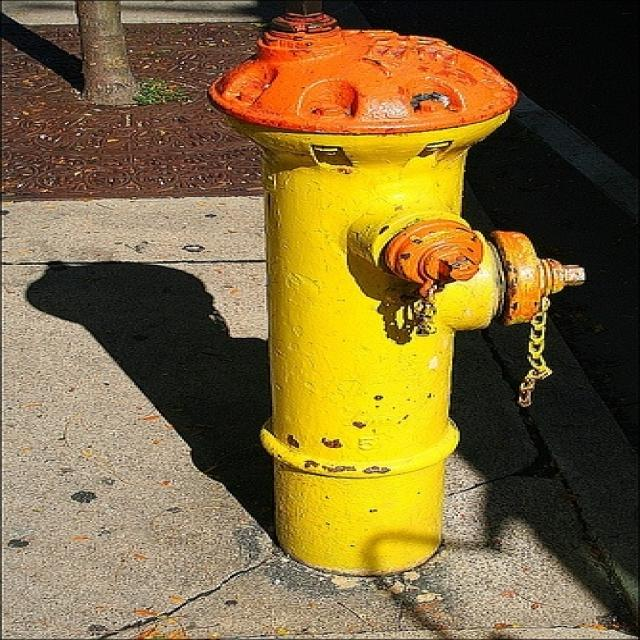fire_hydrant: (142, 45, 640, 558)
